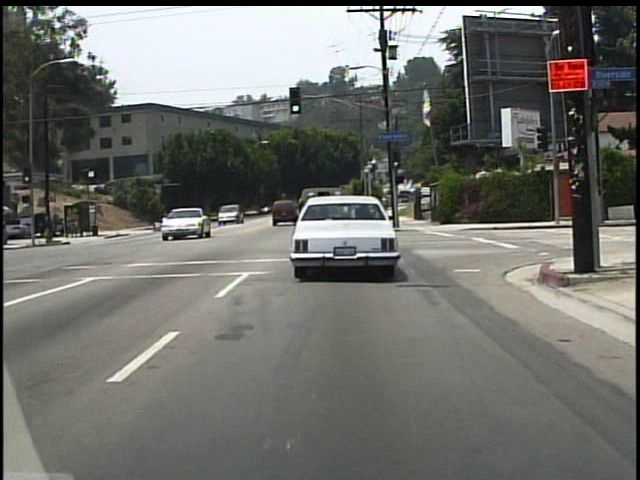person: (163, 209, 171, 230)
